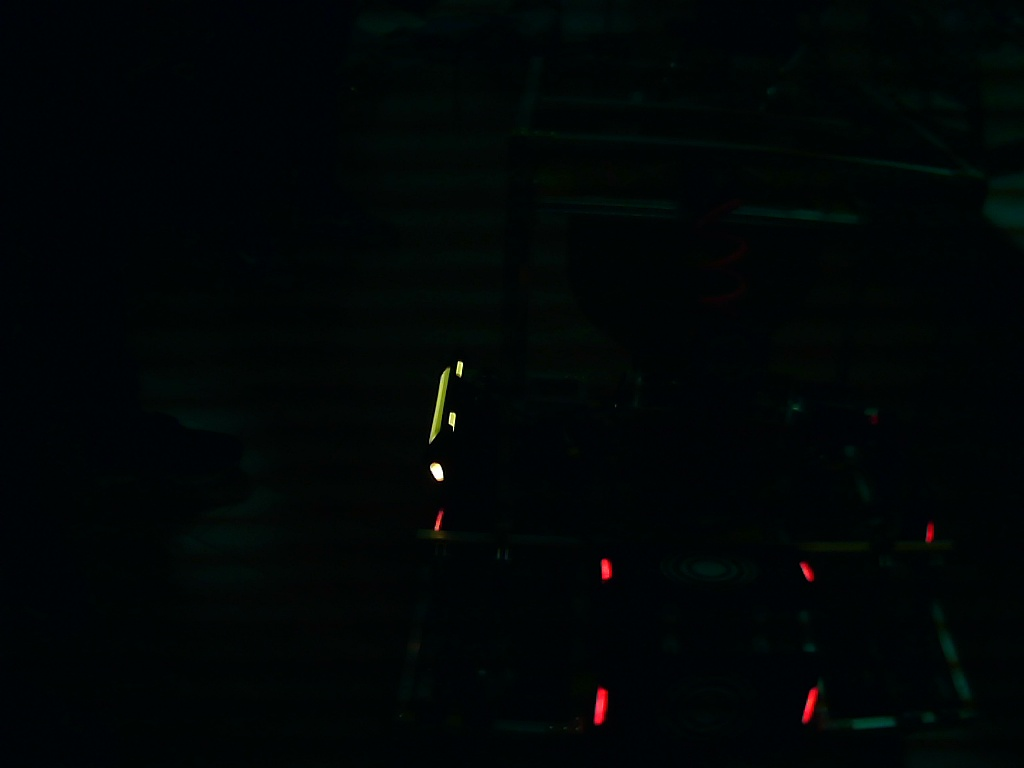lamp: (589, 682, 615, 729), (798, 683, 822, 727)
